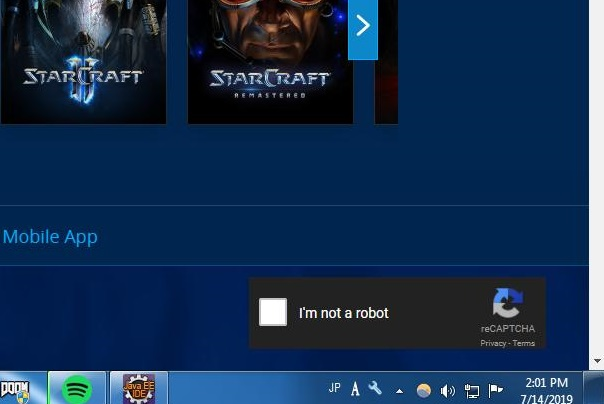captcha: (258, 297, 392, 326)
